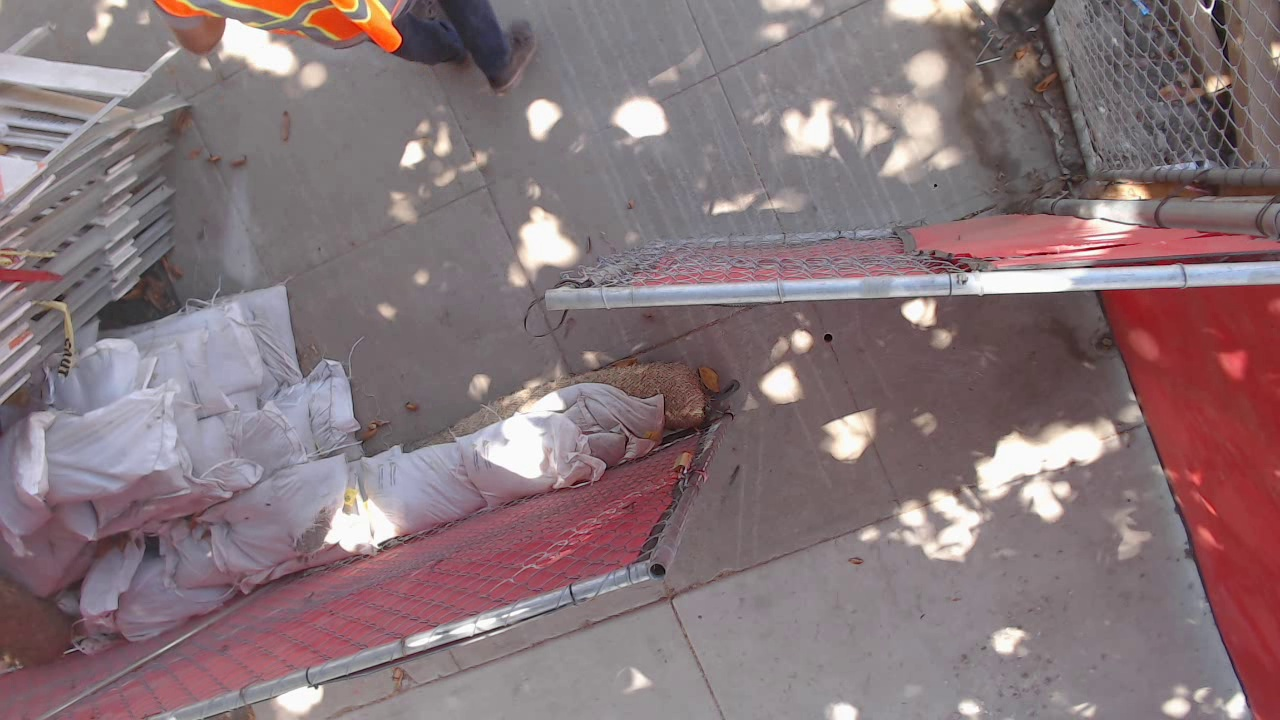hardhat: (250, 358, 451, 530)
person: (5, 320, 479, 539)
safetyvest: (242, 318, 484, 536)
